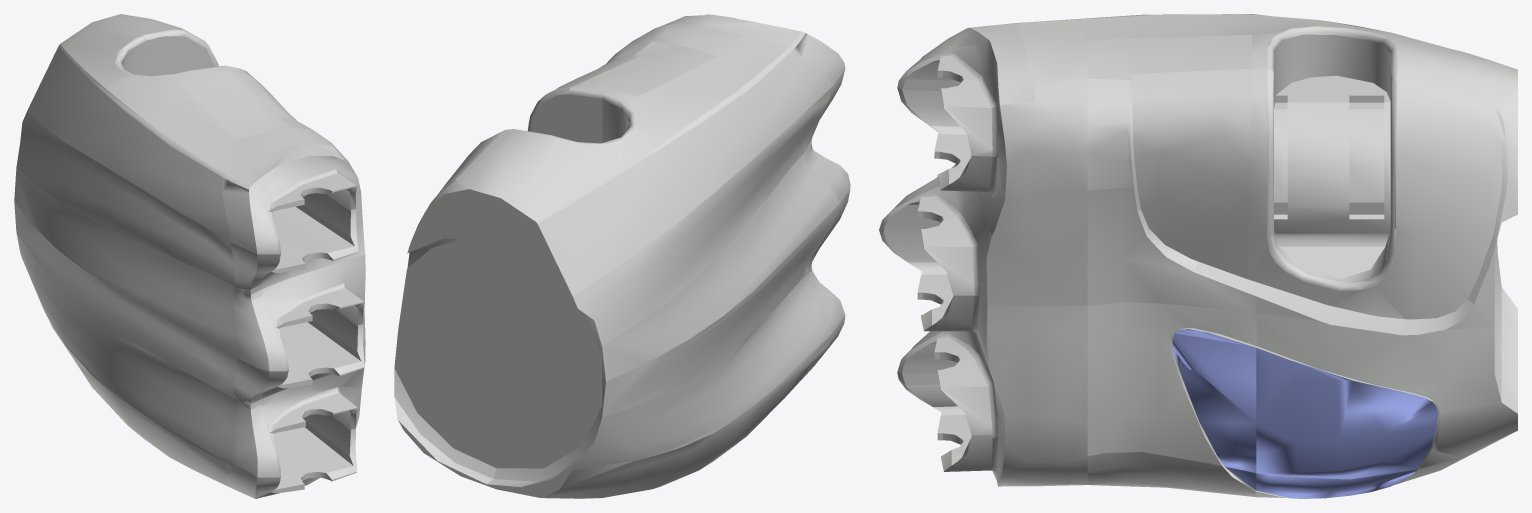
File: palmRight.obj
3 renders of one model, left to right at view 1: azimuth 30°, elevation 25°; view 2: azimuth 150°, elevation 25°; view 3: azimuth 270°, elevation 25°, orthographic. The views are drawn at different scales.
Visible parts, largest first — view 1: unnamed_object1_unnamed_object1_auv; view 2: unnamed_object1_unnamed_object1_auv; view 3: unnamed_object1_unnamed_object1_auv, unnamed_object1_blue.
Part boxes in pixels (x1=…): unnamed_object1_unnamed_object1_auv: x1=14, y1=14, x2=365, y2=498; unnamed_object1_unnamed_object1_auv: x1=394, y1=14, x2=850, y2=498; unnamed_object1_unnamed_object1_auv: x1=879, y1=14, x2=1517, y2=498; unnamed_object1_blue: x1=1172, y1=329, x2=1437, y2=498.
Size of the model in its own units: 0.0817 by 0.1232 by 0.1649.
